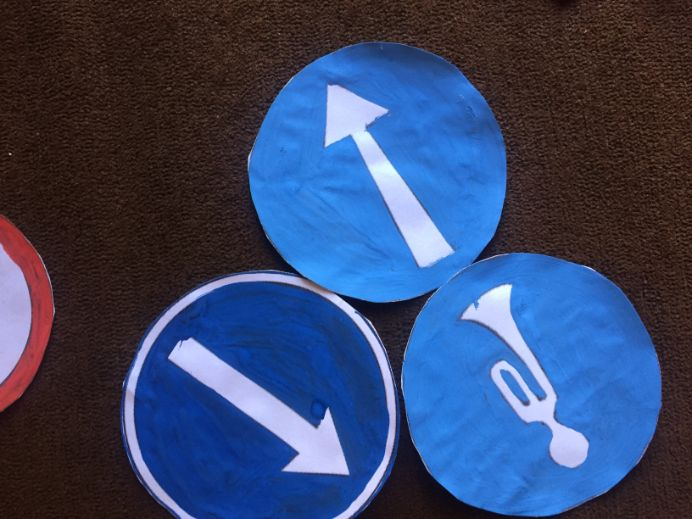blow-horn: (403, 260, 662, 515)
go-stright: (125, 276, 402, 519)
keep-left: (246, 44, 500, 294)
